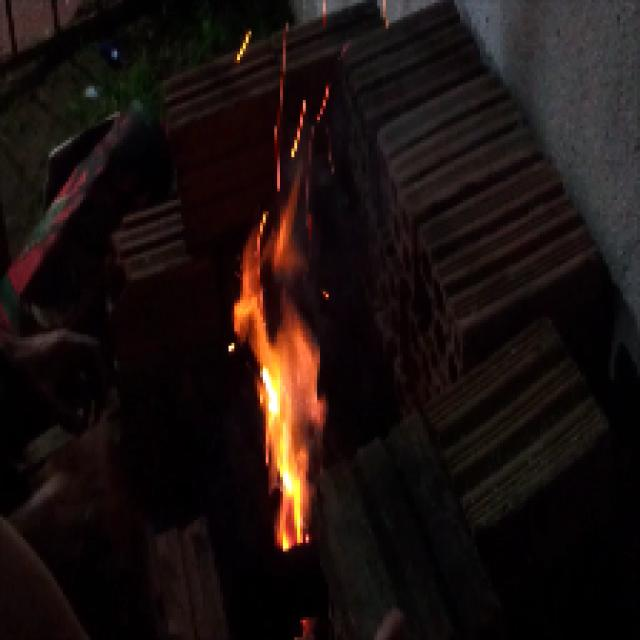fire: (231, 212, 333, 556)
